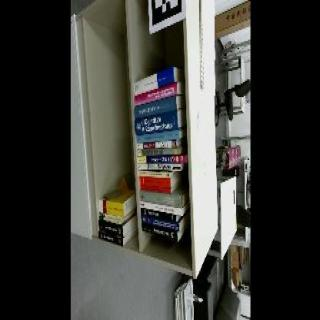book-spine: (129, 67, 177, 96), (132, 111, 179, 136), (131, 83, 179, 107), (131, 96, 178, 119), (137, 190, 183, 208), (139, 223, 179, 242), (139, 215, 180, 232), (138, 201, 183, 216), (135, 130, 180, 144), (139, 207, 177, 222), (96, 200, 125, 217), (96, 221, 125, 237), (137, 155, 185, 164), (96, 232, 124, 247), (136, 140, 176, 150), (138, 176, 171, 188), (136, 148, 179, 157), (137, 164, 180, 171), (139, 185, 171, 194), (137, 171, 171, 179), (98, 216, 121, 225), (99, 213, 121, 220)
